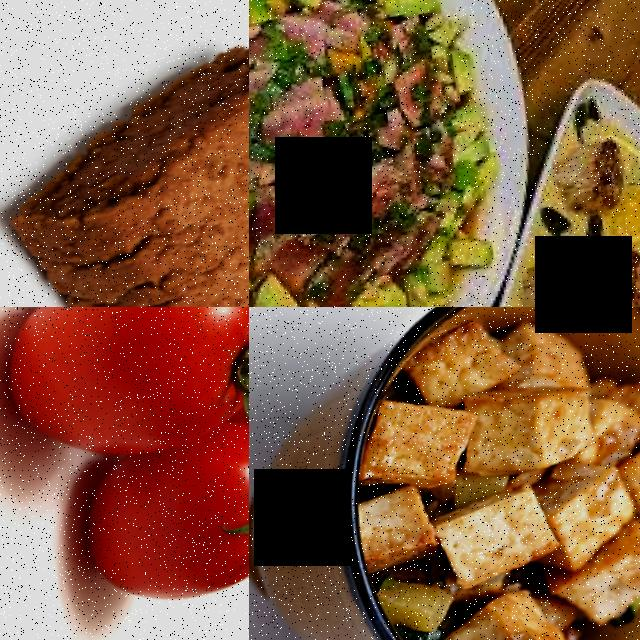tofu: (455, 377, 600, 487), (430, 481, 562, 596), (353, 389, 483, 500), (546, 537, 640, 636), (429, 587, 571, 640)
tomato: (0, 307, 249, 483), (74, 412, 249, 622)
